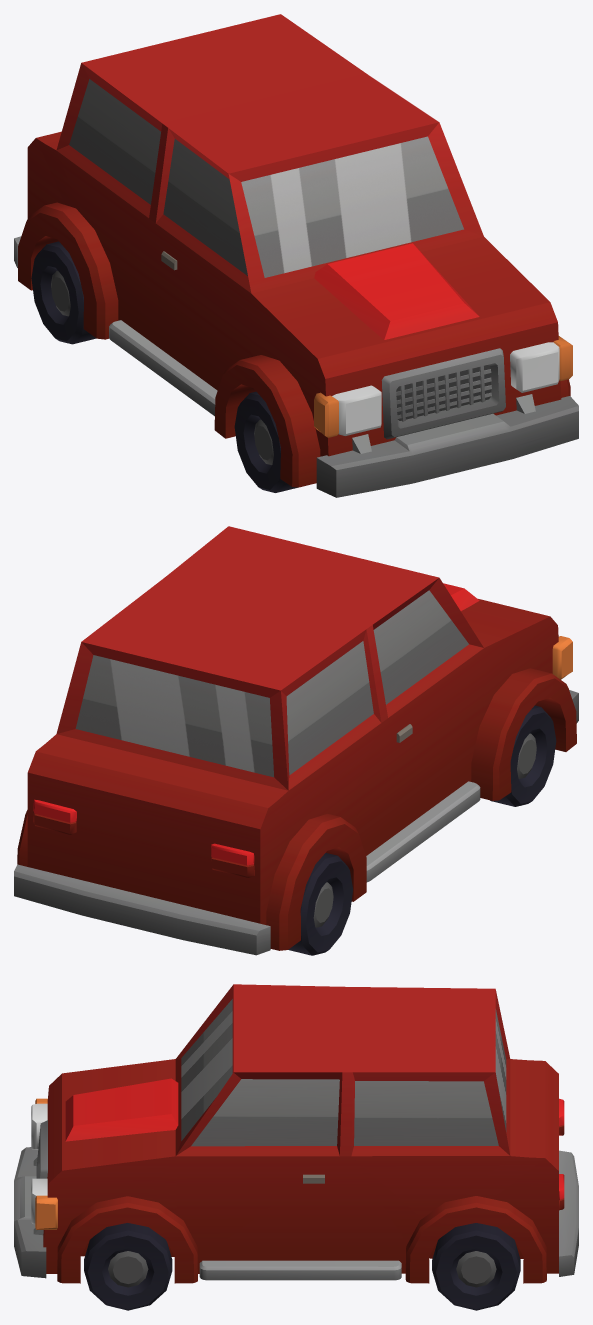
Rendered from Car_3_4.glb.
3 renders of one model, top to bottom at view 1: azimuth 30°, elevation 25°; view 2: azimuth 150°, elevation 25°; view 3: azimuth 270°, elevation 25°, orthographic. The views are drawn at different scales.
Visible parts, largest first — view 1: Car_3_4, Wheel_Br, Wheel_Fr; view 2: Car_3_4, Wheel_Br, Wheel_Fr; view 3: Car_3_4, Wheel_Bl, Wheel_Fl.
Part boxes in pixels (x1,y1,x2,y2): Car_3_4: [14, 14, 578, 497]; Wheel_Br: [31, 241, 96, 344]; Wheel_Fr: [234, 391, 297, 492]; Car_3_4: [14, 526, 578, 955]; Wheel_Br: [288, 853, 353, 955]; Wheel_Fr: [490, 705, 556, 806]; Car_3_4: [14, 984, 578, 1283]; Wheel_Bl: [432, 1223, 520, 1310]; Wheel_Fl: [84, 1223, 172, 1310].
Bounding box in the file's own units: 1.13 × 1.02 × 2.3.
6 materials, 6 textured.
